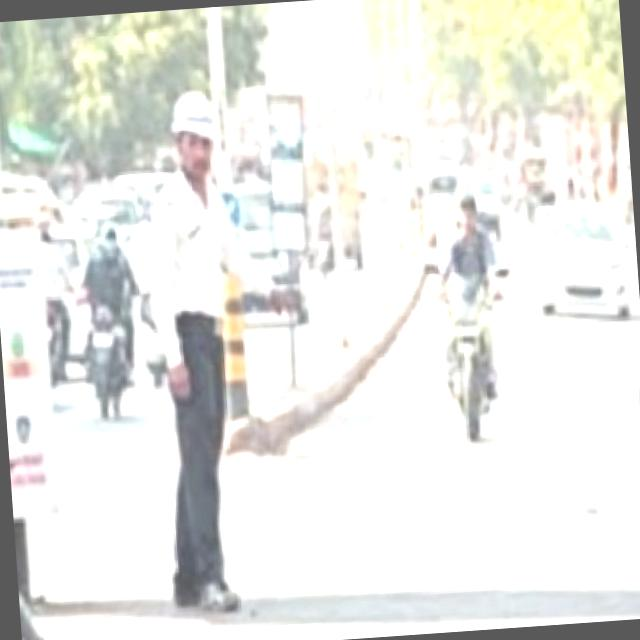Person: (131, 79, 312, 618), (422, 186, 514, 348)
